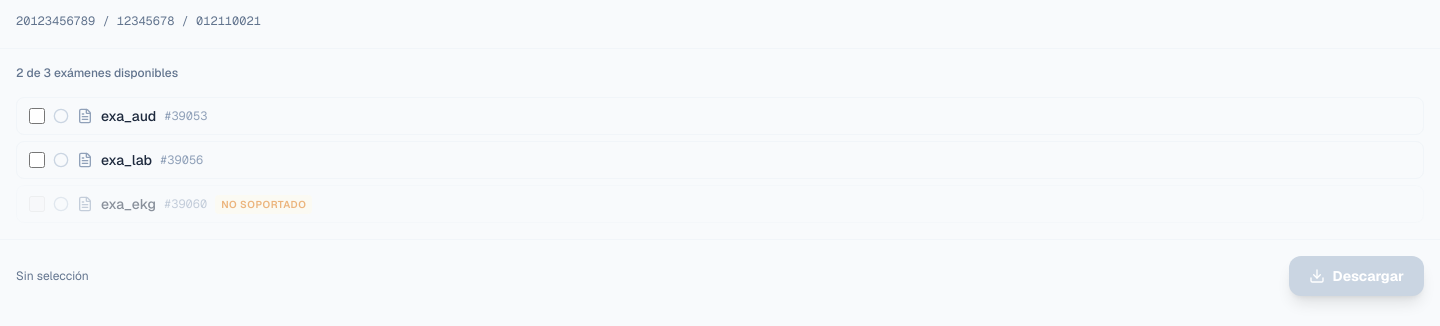
FilesGeneratePane › clicking a checkbox toggles its selection; Descargar becomes enabled
Click the checkbox with test id "files-generate-checkbox-39053".
click(37, 116)  # box [29,108,45,124]
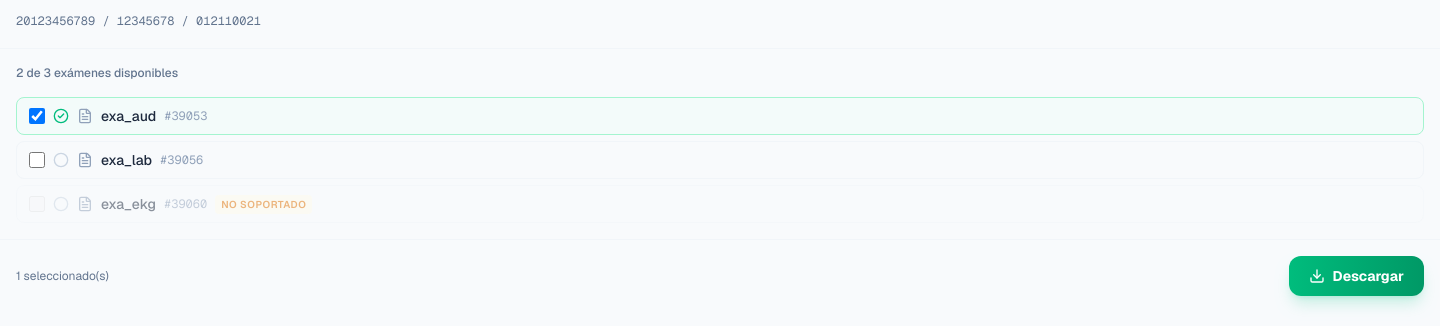
Check: the checkbox with test id "files-generate-checkbox-39053" is checked, box [29,108,45,124]
Check: the button with test id "files-generate-download" is enabled, box [1289,256,1424,296]
Check: the text with test id "files-generate-counter" shows "1 seleccionado", box [16,268,109,284]
